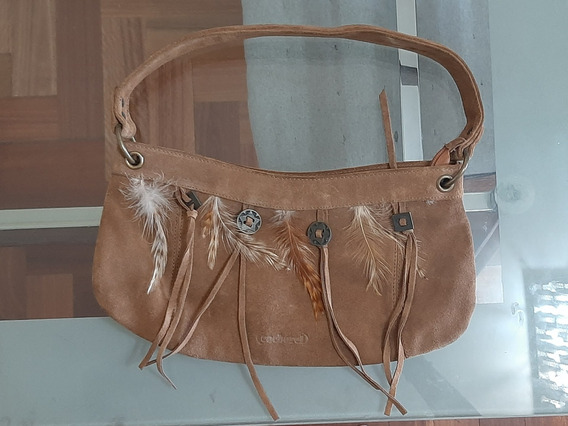cartera: (90, 23, 486, 369)
